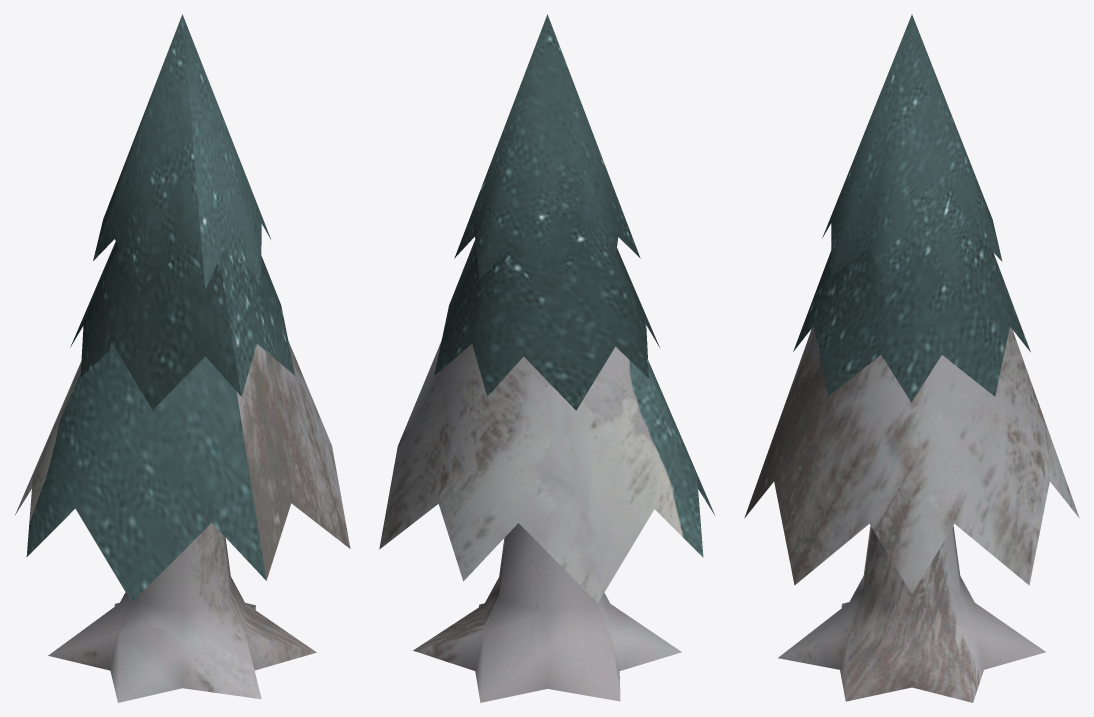
File: Tree_short_01.fbx
3 renders of one model, left to right at view 1: azimuth 30°, elevation 25°; view 2: azimuth 150°, elevation 25°; view 3: azimuth 270°, elevation 25°, orthographic.
Visible parts, largest first — view 1: Tree_1; view 2: Tree_1; view 3: Tree_1.
Part boxes in pixels (x1,y1,x2,y2): Tree_1: [15, 14, 350, 702]; Tree_1: [379, 14, 714, 702]; Tree_1: [744, 14, 1079, 702].
Bounding box in the file's own units: 6 × 11.76 × 5.61.
